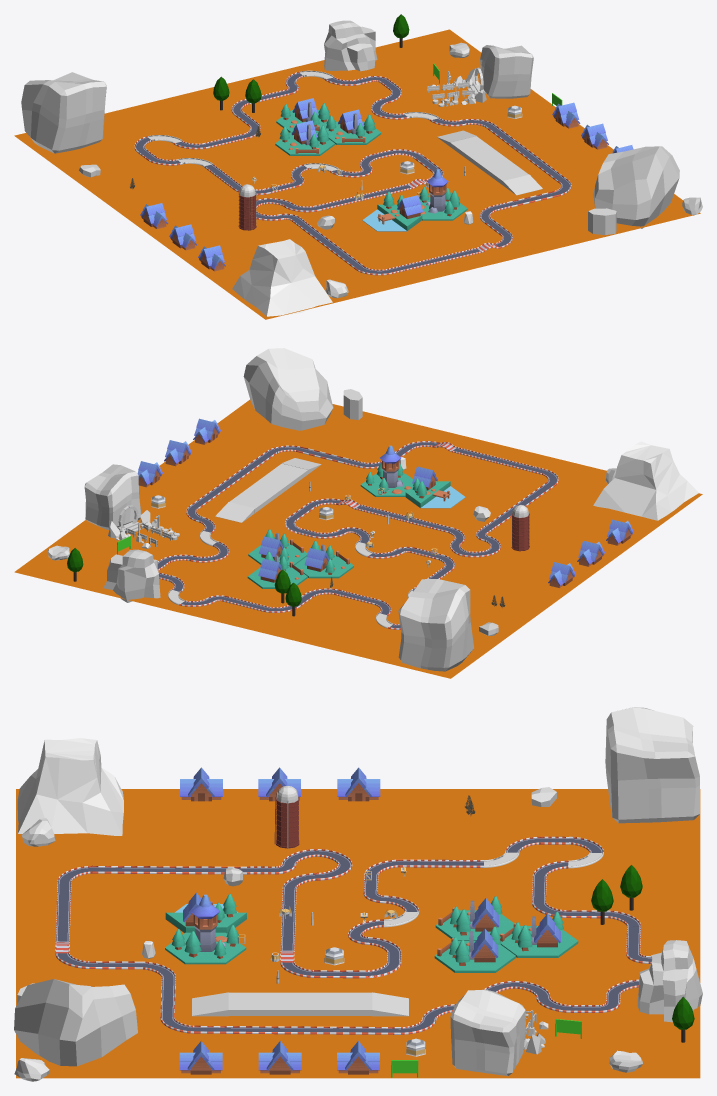
Rendered from escenario_completo.glb.
3 views of the same model, one above another, from view 1: azimuth 30°, elevation 25°; view 2: azimuth 150°, elevation 25°; view 3: azimuth 270°, elevation 25° (orthographic). The views are drawn at different scales.
Visible parts, largest first — view 1: plane_lev2, bigrock4_lev2, bigrock5_lev2, low_poly_cuboid_rock_012_lev2, bigrock4.001_lev2, bigrock3_lev2, cube.002_lev2, building-dock_lev2, building-tower_lev2, building-house.001_lev2, building-house.002_lev2, baked_lev2 (+9 smaller); view 2: plane_lev2, bigrock4_lev2, bigrock5_lev2, low_poly_cuboid_rock_012_lev2, bigrock4.001_lev2, bigrock3_lev2, cube.002_lev2, building-dock_lev2, building-tower_lev2, building-house.001_lev2, baked_lev2, building-house_lev2 (+9 smaller); view 3: plane_lev2, bigrock4_lev2, bigrock5_lev2, low_poly_cuboid_rock_012_lev2, bigrock4.001_lev2, bigrock3_lev2, cube.002_lev2, building-tower_lev2, building-house.002_lev2, building-house_lev2, building-house.001_lev2, building-dock_lev2 (+16 smaller).
Part boxes in pixels (x1=…): plane_lev2: x1=14, y1=29, x2=700, y2=319; bigrock4_lev2: x1=21, y1=72, x2=106, y2=153; bigrock5_lev2: x1=593, y1=146, x2=679, y2=228; low_poly_cuboid_rock_012_lev2: x1=232, y1=239, x2=332, y2=316; bigrock4.001_lev2: x1=480, y1=45, x2=533, y2=98; bigrock3_lev2: x1=324, y1=20, x2=377, y2=71; cube.002_lev2: x1=450, y1=136, x2=528, y2=185; building-dock_lev2: x1=362, y1=191, x2=422, y2=231; building-tower_lev2: x1=419, y1=169, x2=467, y2=220; building-house.001_lev2: x1=275, y1=120, x2=334, y2=155; building-house.002_lev2: x1=326, y1=109, x2=381, y2=144; baked_lev2: x1=427, y1=67, x2=486, y2=106; plane_lev2: x1=14, y1=399, x2=702, y2=678; bigrock4_lev2: x1=398, y1=579, x2=473, y2=671; bigrock5_lev2: x1=243, y1=348, x2=333, y2=430; low_poly_cuboid_rock_012_lev2: x1=593, y1=441, x2=698, y2=520; bigrock4.001_lev2: x1=84, y1=464, x2=141, y2=529; bigrock3_lev2: x1=103, y1=549, x2=160, y2=602; cube.002_lev2: x1=229, y1=463, x2=307, y2=512; building-dock_lev2: x1=405, y1=466, x2=465, y2=508; building-tower_lev2: x1=360, y1=445, x2=413, y2=496; building-house.001_lev2: x1=294, y1=540, x2=353, y2=578; baked_lev2: x1=108, y1=505, x2=179, y2=549; building-house_lev2: x1=247, y1=551, x2=307, y2=588; plane_lev2: x1=16, y1=789, x2=700, y2=1078; bigrock4_lev2: x1=605, y1=707, x2=699, y2=823; bigrock5_lev2: x1=14, y1=979, x2=137, y2=1066; low_poly_cuboid_rock_012_lev2: x1=17, y1=738, x2=123, y2=835; bigrock4.001_lev2: x1=450, y1=989, x2=525, y2=1076; bigrock3_lev2: x1=637, y1=940, x2=702, y2=1022; cube.002_lev2: x1=228, y1=992, x2=372, y2=1015; building-tower_lev2: x1=165, y1=894, x2=246, y2=964; building-house.002_lev2: x1=434, y1=926, x2=515, y2=972; building-house_lev2: x1=499, y1=912, x2=578, y2=957; building-house.001_lev2: x1=435, y1=896, x2=514, y2=940; building-dock_lev2: x1=165, y1=892, x2=246, y2=933.
Bounding box in the file's own units: 98.63 × 16.19 × 97.84.
72 materials, 19 textured.
